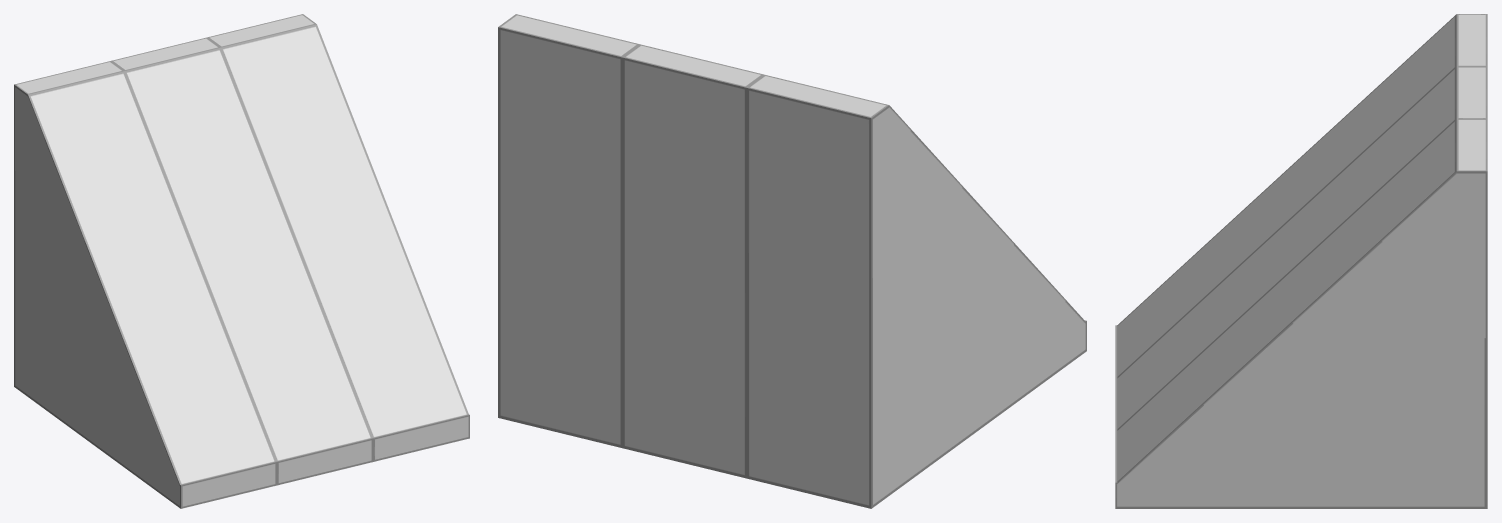
File: jalan turun besar.fbx
The picture shows the model from 3 angles, left to right: view 1: azimuth 30°, elevation 25°; view 2: azimuth 150°, elevation 25°; view 3: azimuth 270°, elevation 25°; orthographic projection. The views are drawn at different scales.
Parts seen in each view (by area): view 1: jalan turun; view 2: jalan turun; view 3: jalan turun.
Part boxes in pixels (box(x1,y1,x2,y2)): jalan turun: box(14, 14, 469, 508); jalan turun: box(498, 14, 1086, 508); jalan turun: box(1115, 14, 1487, 508).
Size of the model in its own units: 900 by 900 by 900.
1 material, 1 textured.
